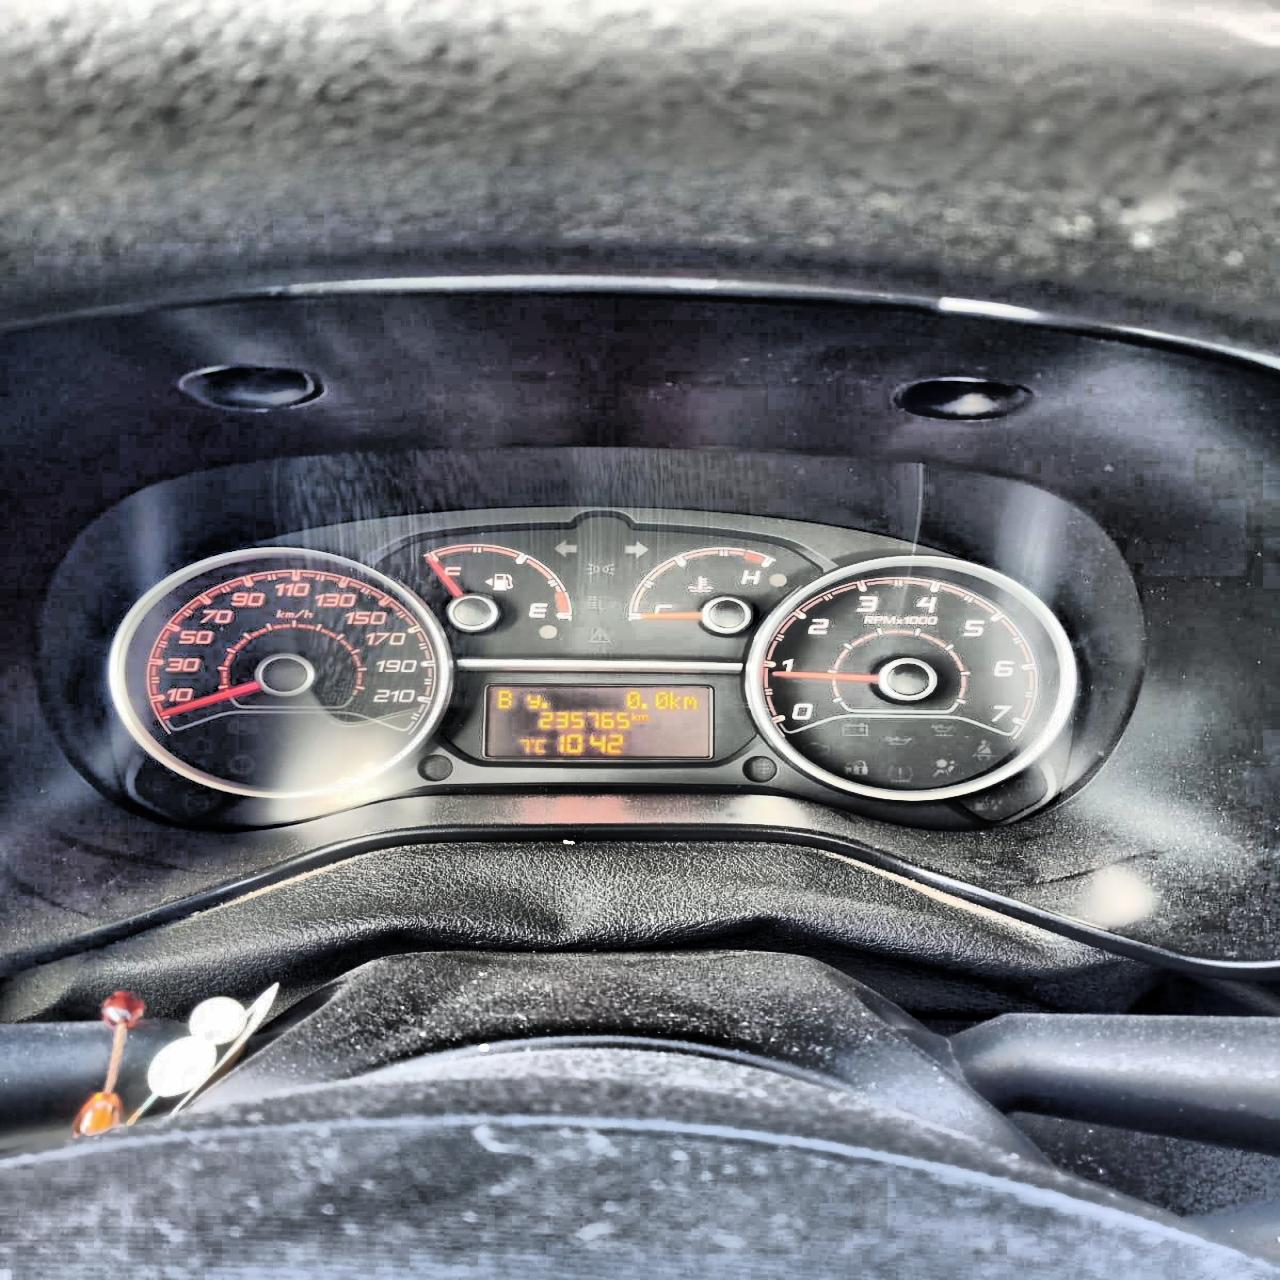-: (539, 701, 547, 708), (640, 702, 647, 709)
0: (565, 733, 583, 753), (625, 690, 640, 709), (654, 690, 668, 709)
1: (558, 734, 564, 753)
2: (606, 733, 622, 753), (538, 712, 552, 728)
3: (553, 712, 568, 728)
4: (588, 734, 606, 753)
5: (568, 712, 584, 729), (615, 712, 629, 729)
6: (599, 712, 614, 728)
7: (586, 712, 599, 728), (518, 738, 529, 751)
X: (496, 688, 512, 709), (667, 690, 681, 709), (681, 695, 696, 710), (526, 694, 540, 708), (535, 738, 546, 753), (636, 714, 648, 722), (631, 712, 636, 721)
odometer: (481, 681, 716, 761)
